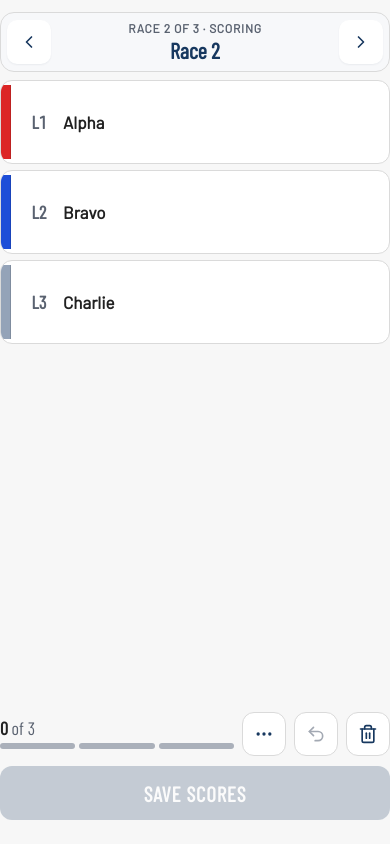
Test: hors concours › marks a team hors concours from its menu in race tools
The width and height of the screenshot is (390, 844).
Click the button named "Race tools": (264, 734) [242,712,286,756]
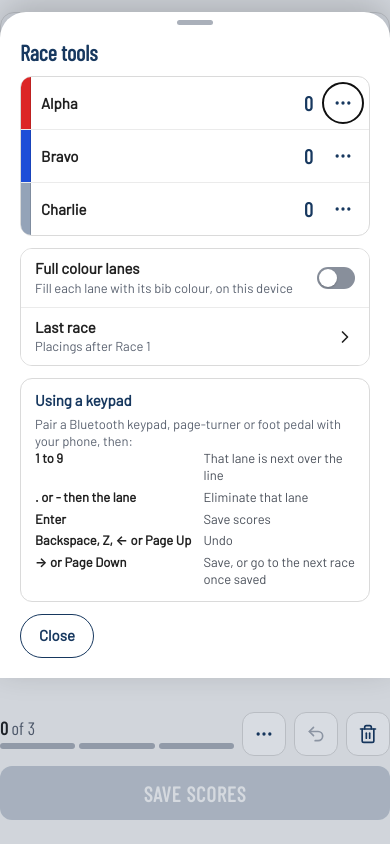
Click the button named "More for Bravo": (343, 156) [323,136,363,176]
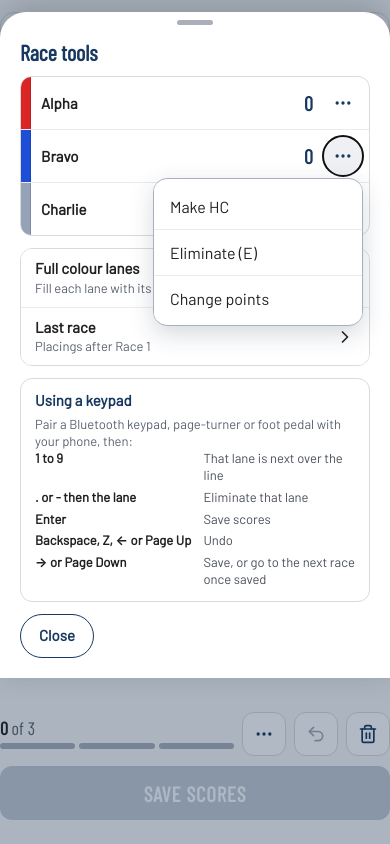
Click the menu item "Make HC": (258, 206) [154,183,362,229]
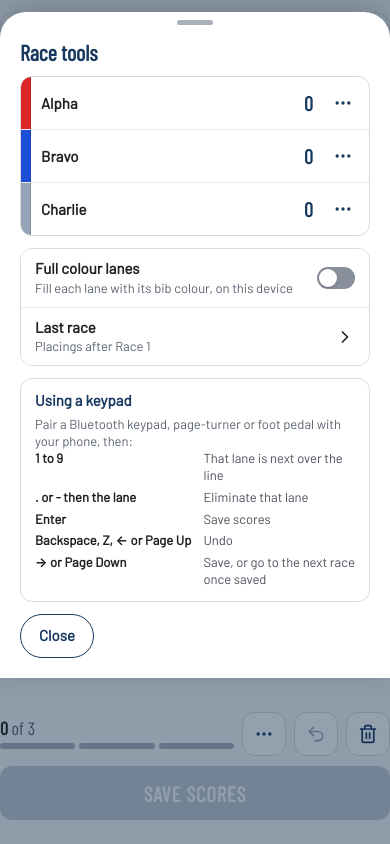
Result: the menu is gone
